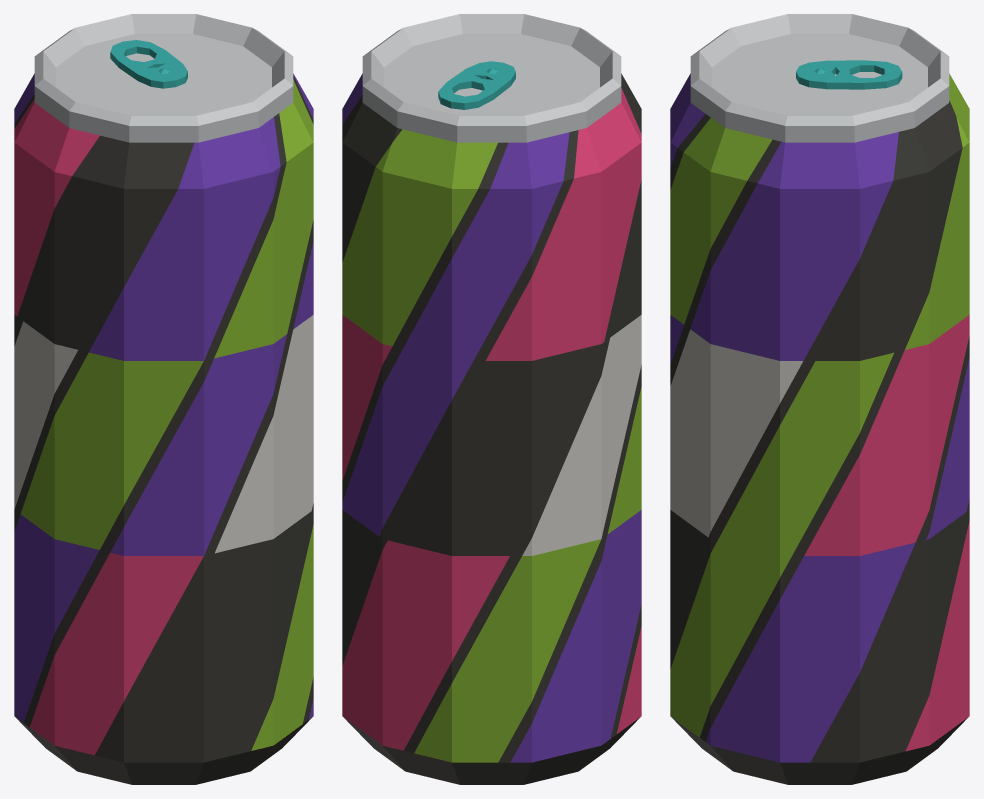
The model's file is energy-drink-can-c47bcf.glb.
3 renders of one model, left to right at view 1: azimuth 30°, elevation 25°; view 2: azimuth 150°, elevation 25°; view 3: azimuth 270°, elevation 25°, orthographic.
Visible parts, largest first — view 1: can-body, tab-plate; view 2: can-body, tab-plate; view 3: can-body, tab-plate.
Part boxes in pixels (x1=…): can-body: x1=14, y1=14, x2=313, y2=784; tab-plate: x1=110, y1=40, x2=187, y2=88; can-body: x1=342, y1=14, x2=641, y2=784; tab-plate: x1=438, y1=61, x2=515, y2=109; can-body: x1=670, y1=14, x2=969, y2=784; tab-plate: x1=796, y1=60, x2=902, y2=89.
Size of the model in its own units: 0.0647 by 0.16 by 0.0647.
